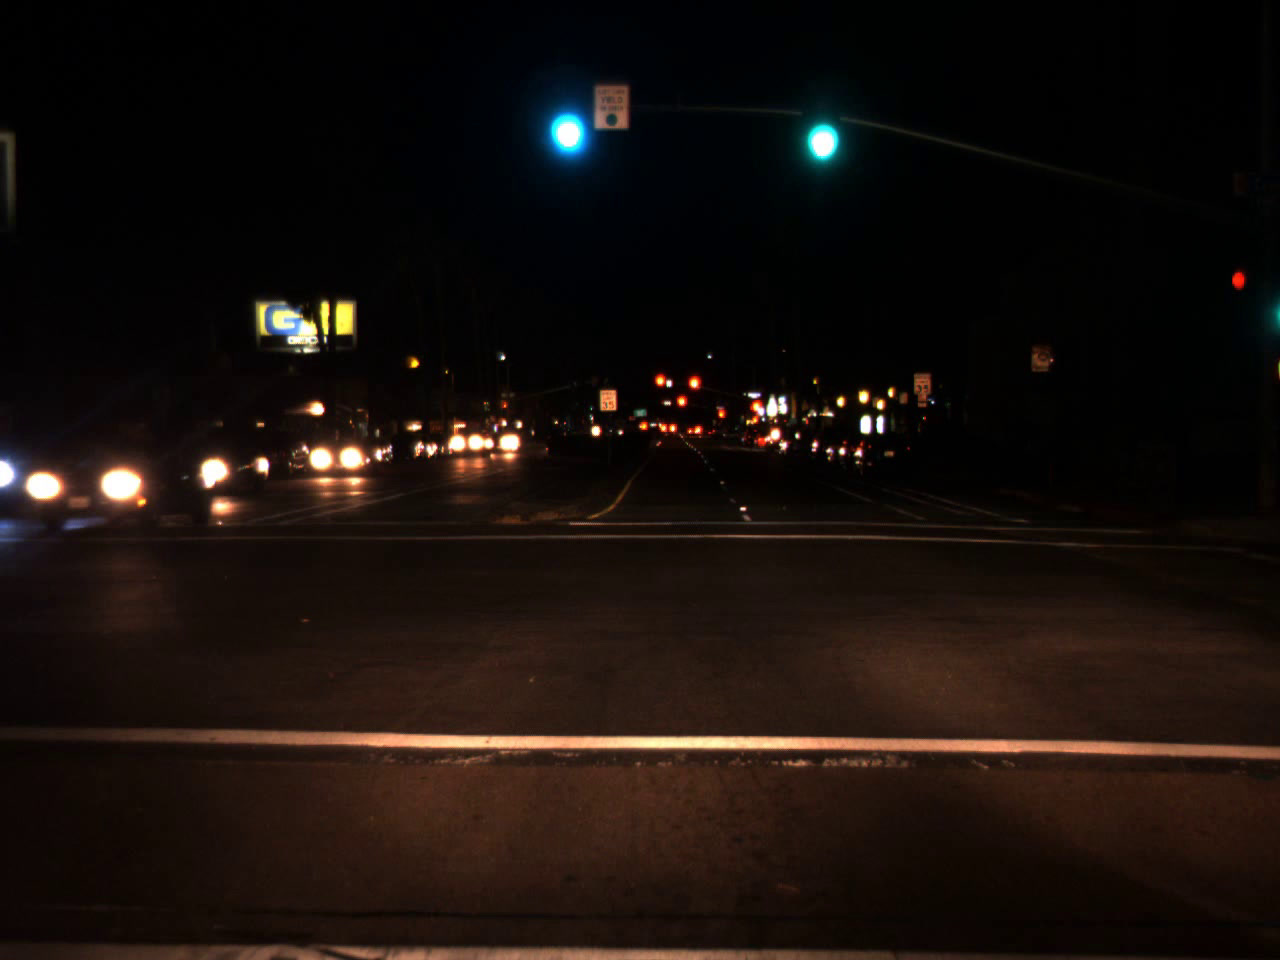go: (543, 75, 588, 162), (797, 84, 842, 171)
stop: (686, 373, 702, 405), (653, 372, 668, 401), (674, 393, 689, 419), (750, 397, 762, 424), (717, 408, 724, 429)
